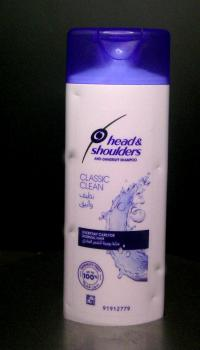dent_unacceptable: (66, 148, 82, 168), (151, 158, 166, 177), (148, 288, 160, 308), (64, 298, 77, 316), (66, 224, 80, 240), (153, 260, 165, 278), (71, 88, 86, 100)
